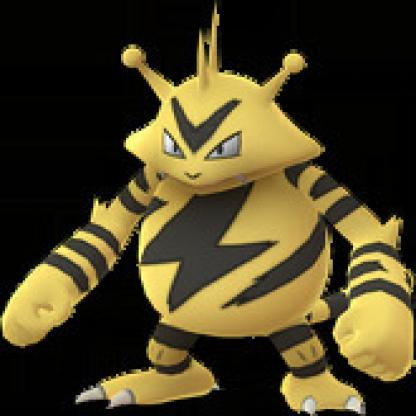Electabuzz: (1, 26, 416, 416)
